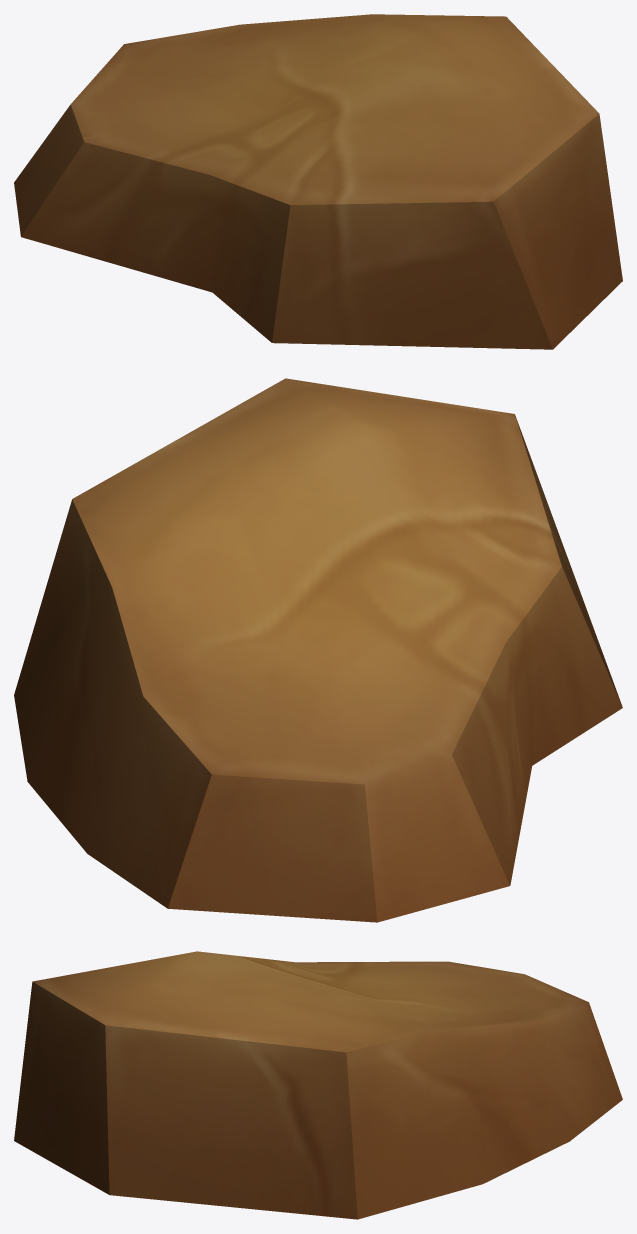
File: Desert_stone_02.fbx
3 views of the same model, one above another, from view 1: azimuth 30°, elevation 25°; view 2: azimuth 150°, elevation 25°; view 3: azimuth 270°, elevation 25° (orthographic). The views are drawn at different scales.
Parts seen in each view (by area): view 1: Desert_stone_02; view 2: Desert_stone_02; view 3: Desert_stone_02.
Boxes of the visible parts, x1=… form: Desert_stone_02: x1=14, y1=14, x2=622, y2=349; Desert_stone_02: x1=14, y1=378, x2=622, y2=922; Desert_stone_02: x1=14, y1=951, x2=622, y2=1219.
Size of the model in its own units: 68.45 by 27.92 by 86.49.
